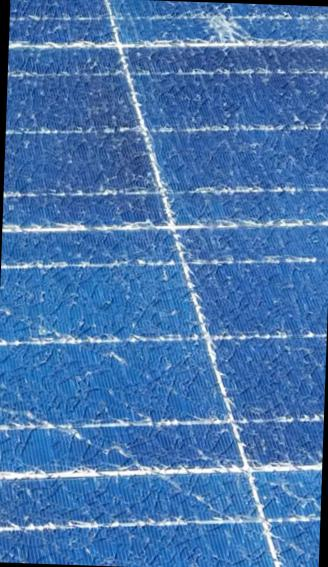Crack: (178, 2, 275, 58)
